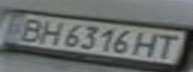1: (97, 26, 118, 53)
3: (78, 24, 100, 52)
6: (57, 21, 84, 48), (112, 27, 136, 55)
B: (9, 15, 51, 43)
H: (30, 18, 66, 46), (130, 29, 163, 58)
T: (151, 33, 187, 60)
